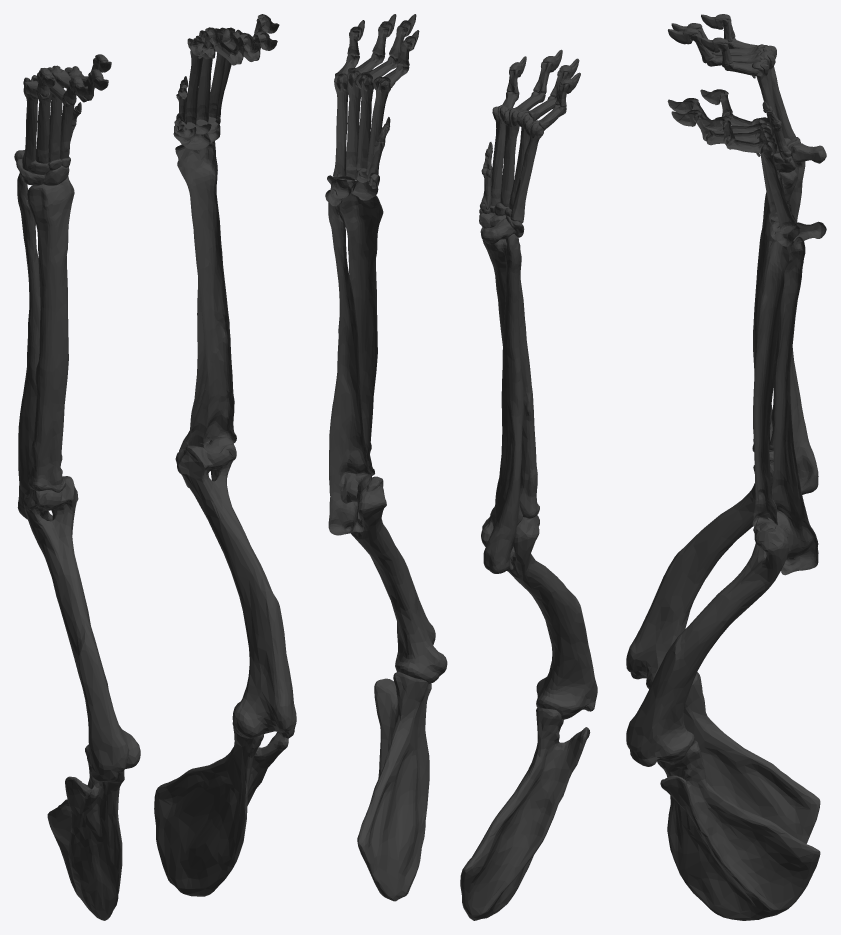
Rendered from b_forelimb.glb.
The picture shows the model from 3 angles, left to right: view 1: azimuth 30°, elevation 25°; view 2: azimuth 150°, elevation 25°; view 3: azimuth 270°, elevation 25°; orthographic projection. The views are drawn at different scales.
Visible parts, largest first — view 1: b_forelimb; view 2: b_forelimb; view 3: b_forelimb.
Boxes of the visible parts, x1=… form: b_forelimb: x1=14, y1=14, x2=296, y2=920; b_forelimb: x1=325, y1=14, x2=597, y2=920; b_forelimb: x1=626, y1=14, x2=826, y2=920.
Size of the model in its own units: 0.00469 by 0.0171 by 0.00372.
1 material, 1 textured.
